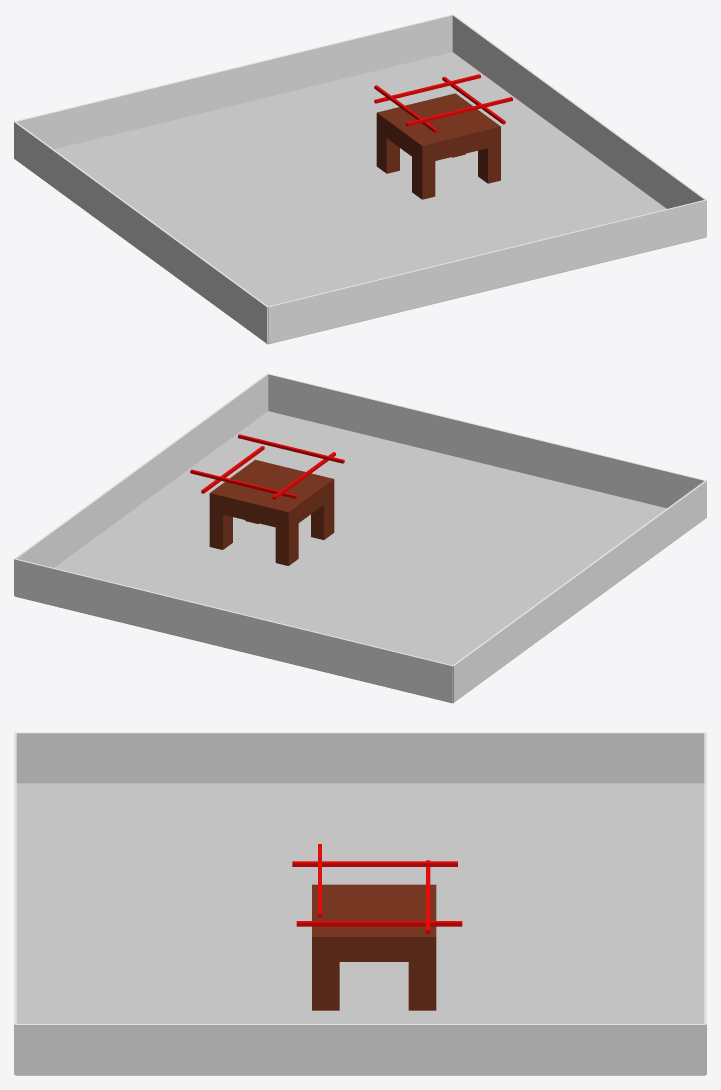
The picture shows the model from 3 angles, top to bottom: view 1: azimuth 30°, elevation 25°; view 2: azimuth 150°, elevation 25°; view 3: azimuth 270°, elevation 25°; orthographic projection. The views are drawn at different scales.
Visible parts, largest first — view 1: _dummylink0_ (×5), base (×5); view 2: _dummylink0_ (×5), base (×5); view 3: _dummylink0_ (×5), base (×5).
Part boxes in pixels (x1=…): _dummylink0_ (×5): x1=14, y1=14, x2=706, y2=344; base (×5): x1=376, y1=93, x2=512, y2=199; _dummylink0_ (×5): x1=14, y1=373, x2=706, y2=703; base (×5): x1=209, y1=434, x2=344, y2=565; _dummylink0_ (×5): x1=14, y1=732, x2=706, y2=1075; base (×5): x1=292, y1=861, x2=462, y2=1010.
Bounding box in the file's own units: 5.02 × 5.02 × 0.8576.
